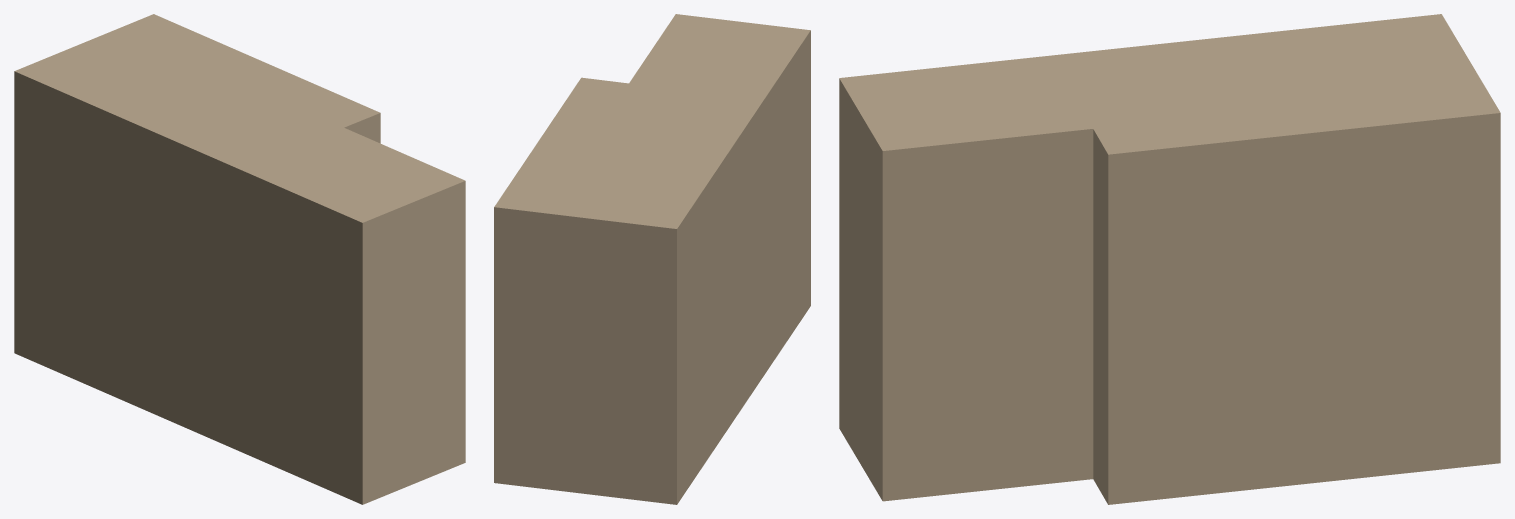
The model's file is bld_107625496.dae.
3 renders of one model, left to right at view 1: azimuth 30°, elevation 25°; view 2: azimuth 150°, elevation 25°; view 3: azimuth 270°, elevation 25°, orthographic. The views are drawn at different scales.
Parts seen in each view (by area): view 1: bld_107625496; view 2: bld_107625496; view 3: bld_107625496.
Boxes of the visible parts, bbox=[...] form: bld_107625496: bbox=[14, 14, 465, 504]; bld_107625496: bbox=[494, 14, 810, 504]; bld_107625496: bbox=[839, 14, 1500, 504].
Size of the model in its own units: 6.89 by 13.69 by 8.
